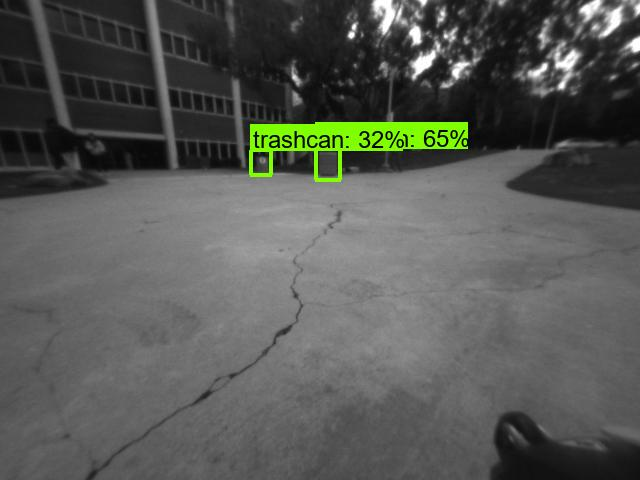trashcan: (317, 150, 338, 176), (252, 152, 273, 172)
